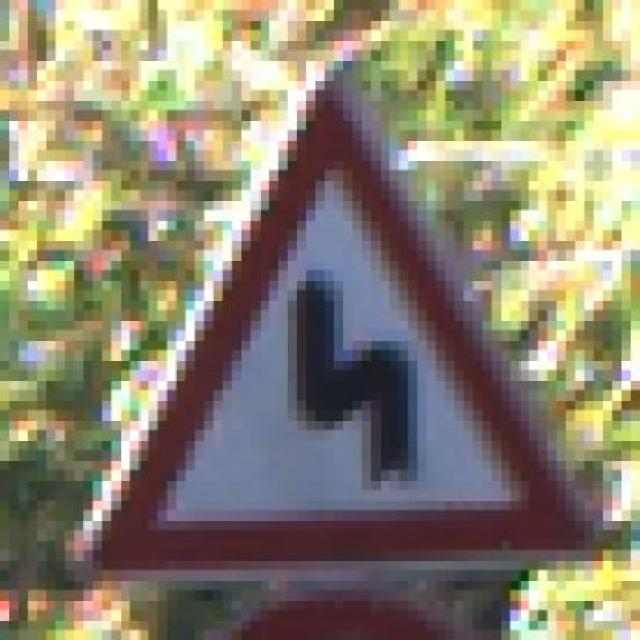Left Zig Zag Traffic: (65, 29, 612, 580)
